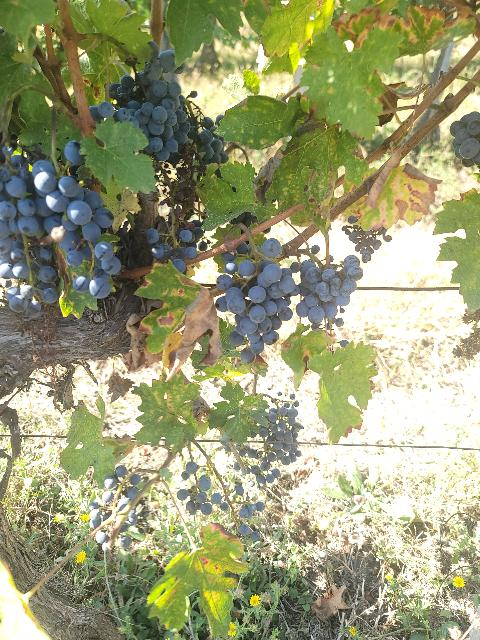grapes: (31, 160, 121, 299), (90, 41, 191, 161), (215, 239, 299, 362), (0, 164, 59, 319), (296, 255, 364, 325), (89, 465, 142, 551), (259, 392, 304, 465), (144, 220, 204, 272)
